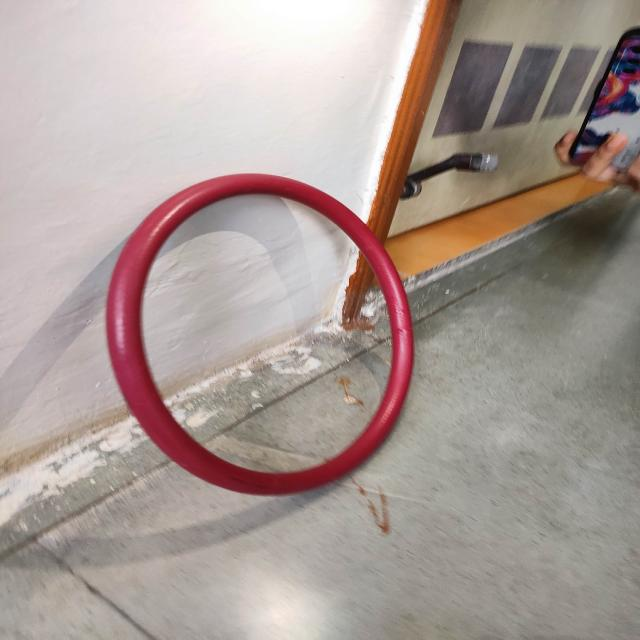daire: (112, 173, 417, 492)
